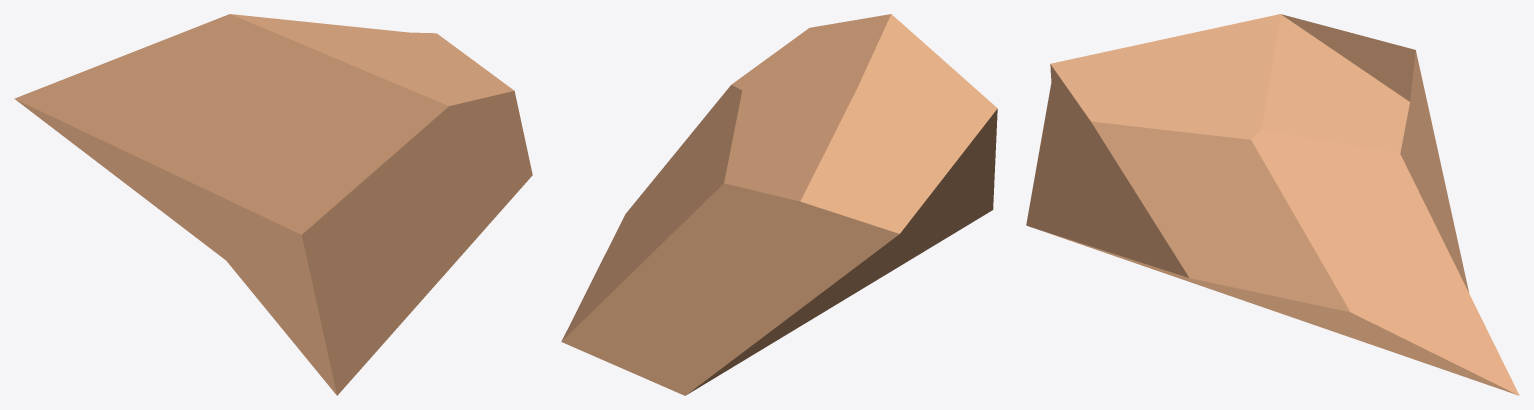
File: MountainMiniPart.fbx
3 renders of one model, left to right at view 1: azimuth 30°, elevation 25°; view 2: azimuth 150°, elevation 25°; view 3: azimuth 270°, elevation 25°, orthographic. The views are drawn at different scales.
Parts seen in each view (by area): view 1: Plane.004; view 2: Plane.004; view 3: Plane.004.
Boxes of the visible parts, box(x1,y1,x2,y2) form: Plane.004: box(14, 14, 532, 395); Plane.004: box(561, 14, 997, 395); Plane.004: box(1026, 14, 1519, 395).
Bounding box in the file's own units: 1063 × 888 × 1268.
